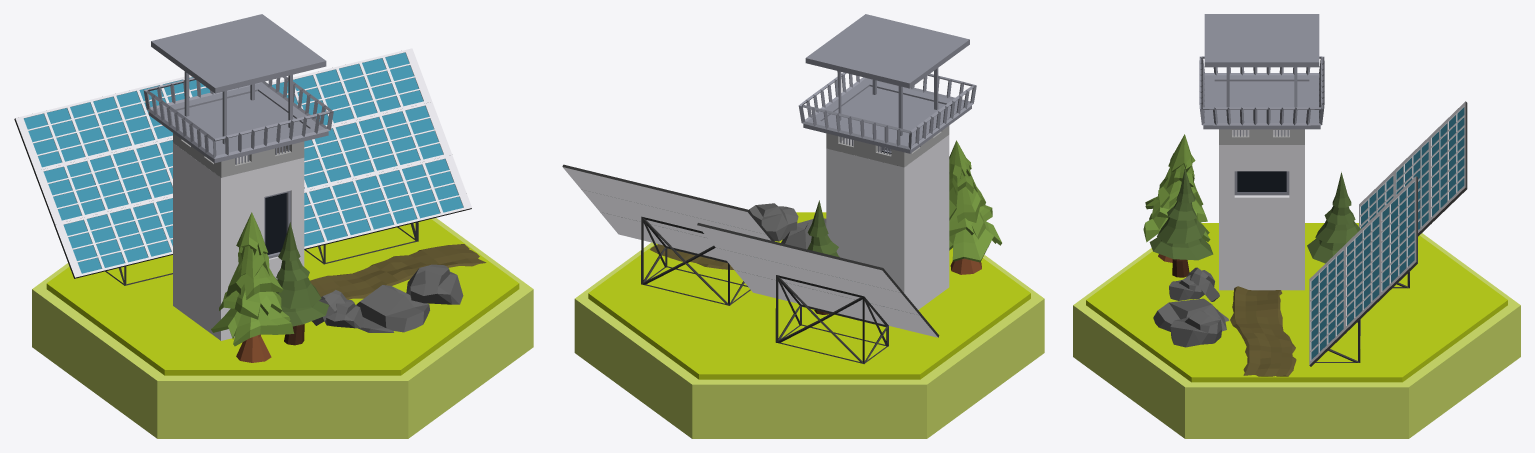
File: solarPS_compress.glb
The picture shows the model from 3 angles, left to right: view 1: azimuth 30°, elevation 25°; view 2: azimuth 150°, elevation 25°; view 3: azimuth 270°, elevation 25°; orthographic projection. The views are drawn at different scales.
Parts seen in each view (by area): view 1: Cylinder.004, Cube.031, Cube.018, Cube.019, Tree.005, Road, Tree.006, Stone.002, Stone.006, Stone.001; view 2: Cylinder.004, Cube.031, Cube.019, Cube.018, Tree.005, Stone.006, Tree.003, Road, Stone.002; view 3: Cylinder.004, Cube.031, Cube.018, Cube.019, Road, Tree.006, Tree.005, Tree.003, Stone.006, Stone.002, Stone.001, Stone.007.
Part boxes in pixels (x1,y1,x2,y2): Cylinder.004: (32, 218, 533, 438); Cube.031: (143, 14, 333, 340); Cube.018: (268, 48, 471, 264); Cube.019: (14, 75, 210, 285); Tree.005: (211, 212, 294, 362); Road: (310, 244, 486, 299); Tree.006: (276, 222, 328, 345); Stone.002: (356, 285, 429, 332); Stone.006: (406, 264, 463, 304); Stone.001: (324, 300, 363, 328); Cylinder.004: (574, 212, 1044, 438); Cube.031: (798, 14, 976, 309); Cube.019: (697, 223, 939, 363); Cube.018: (562, 164, 774, 305); Tree.005: (949, 140, 1001, 274); Stone.006: (749, 203, 798, 241); Tree.003: (807, 200, 839, 314); Road: (650, 244, 733, 269); Stone.002: (781, 218, 826, 249); Cylinder.004: (1073, 223, 1520, 438); Cube.031: (1199, 14, 1324, 290); Cube.018: (1309, 176, 1417, 366); Cube.019: (1359, 101, 1467, 288); Road: (1230, 286, 1296, 376); Tree.006: (1149, 168, 1213, 277); Tree.005: (1143, 134, 1210, 262); Tree.003: (1307, 172, 1360, 263); Stone.006: (1170, 310, 1222, 347); Stone.002: (1153, 298, 1229, 331); Stone.001: (1169, 275, 1204, 300); Stone.007: (1186, 267, 1219, 301).
Size of the model in its own units: 3.11 by 2.52 by 3.51.
